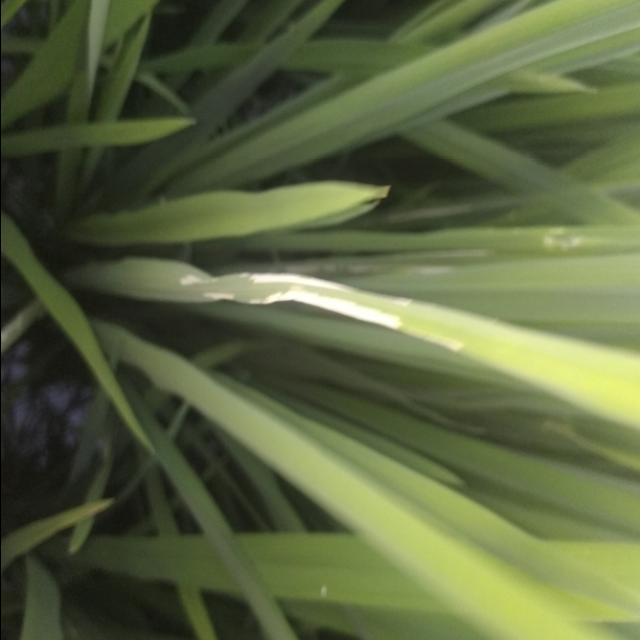Penggulung Daun: (168, 240, 476, 365)
